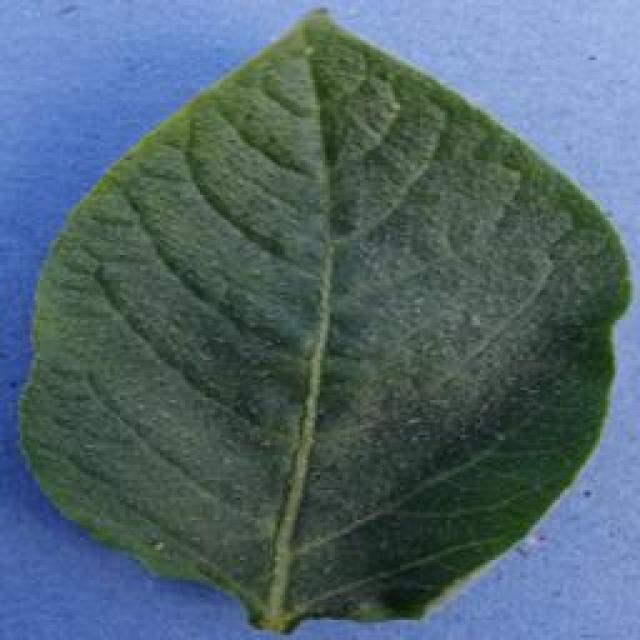Potato_Healthy: (23, 6, 624, 627)
